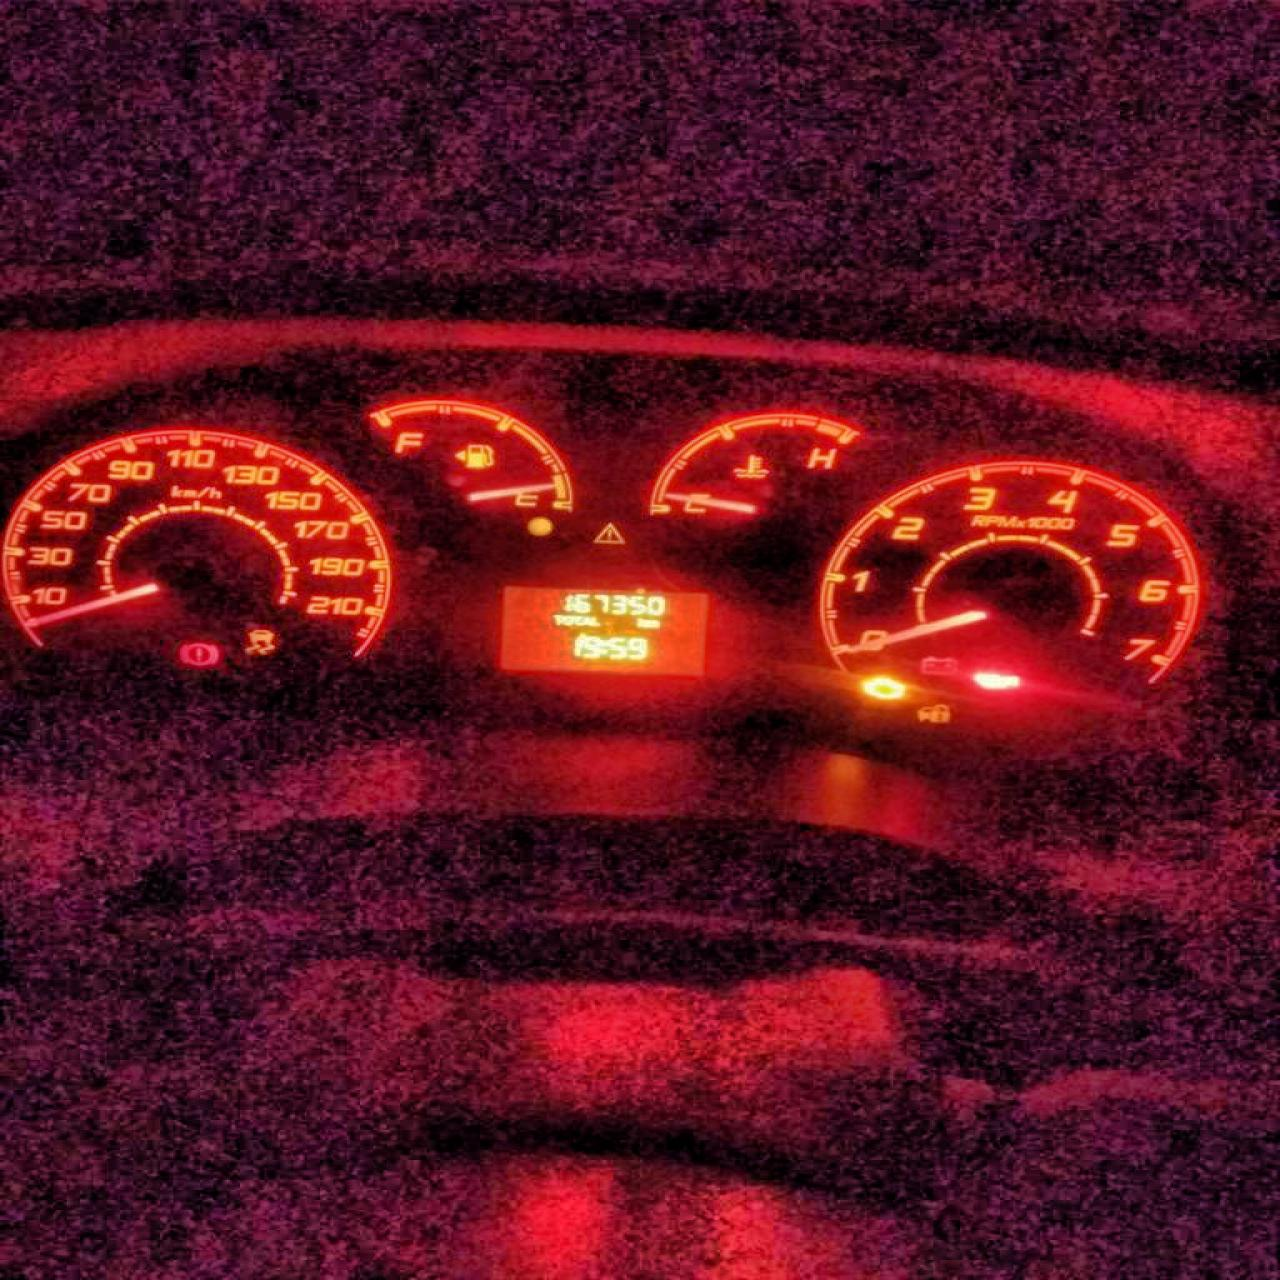0: (645, 594, 663, 614)
1: (572, 633, 584, 661), (564, 590, 572, 611)
3: (612, 592, 626, 613)
5: (627, 593, 645, 615), (608, 635, 625, 659)
6: (573, 592, 590, 613)
7: (590, 591, 608, 611)
9: (625, 635, 647, 660), (584, 635, 600, 659)
X: (645, 618, 660, 628), (560, 613, 572, 625), (588, 615, 600, 626), (552, 613, 560, 625), (636, 617, 645, 628), (601, 638, 606, 656), (580, 614, 588, 625), (572, 614, 580, 624)
odometer: (492, 580, 713, 681)
